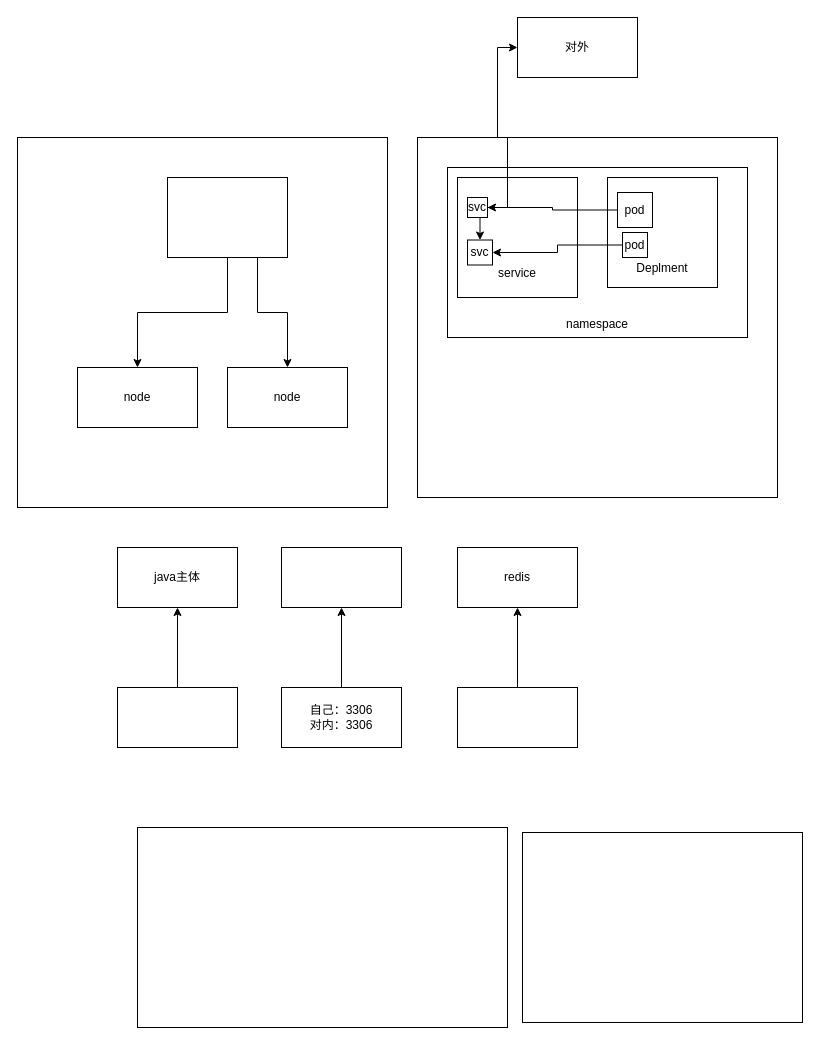
Image size: 820x1045. Some labels were removed from this diagram. Here are the shapes that lost their labels. From the top down, the centre of each, then its label:
the point at 227,217: master
the point at 341,577: mysql
the point at 177,717: 自己：8099 对外：30090 对内：8090
the point at 517,717: 自己：6379 对内：6379
the point at 322,927: 1.？port对内端口号是否有要求
the point at 662,927: 如果是对外的话可以完成映射
